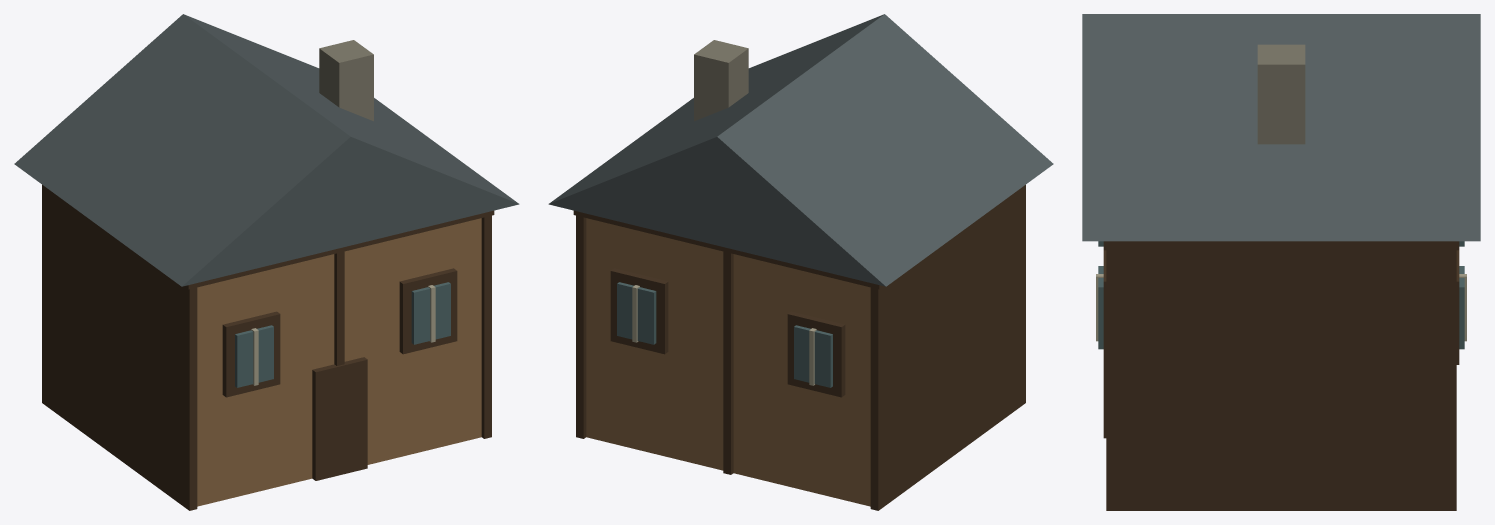
3 views of the same model, side by side, from view 1: azimuth 30°, elevation 25°; view 2: azimuth 150°, elevation 25°; view 3: azimuth 270°, elevation 25° (orthographic). The views are drawn at different scales.
Visible parts, largest first — view 1: alpine-body; view 2: alpine-body; view 3: alpine-body.
Part boxes in pixels (left/top/right/bottom): alpine-body: left=14, top=14, right=519, bottom=510; alpine-body: left=548, top=14, right=1053, bottom=510; alpine-body: left=1082, top=14, right=1480, bottom=510.
Bounding box in the file's own units: 7.8 × 7.7 × 6.7.
